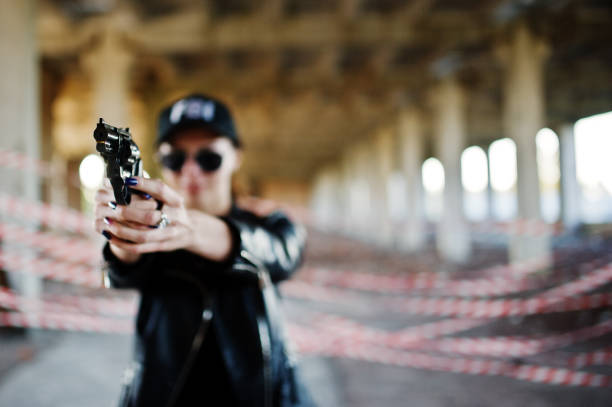gun: (92, 118, 140, 206)
